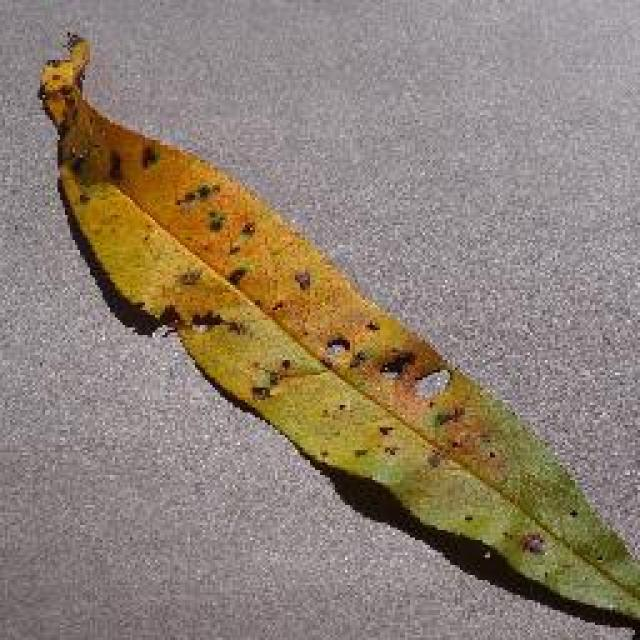Pea_Bacterial_spot: (146, 263, 500, 472), (39, 24, 255, 258), (500, 498, 562, 572)
